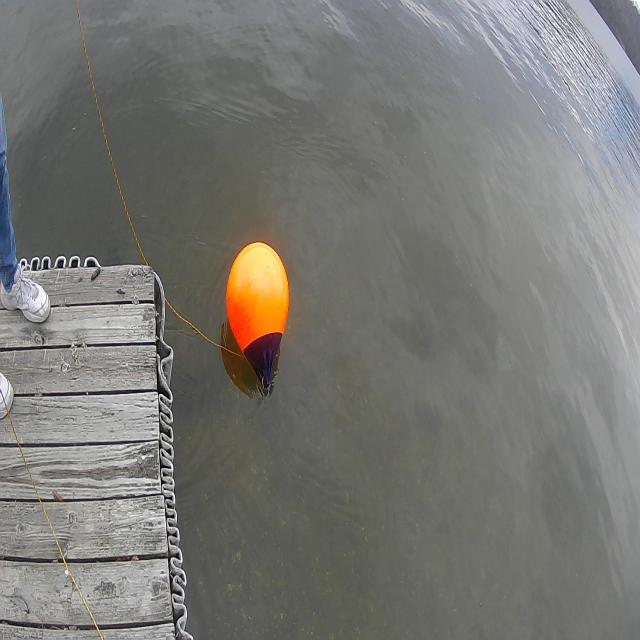Buoy: (224, 236, 294, 391)
